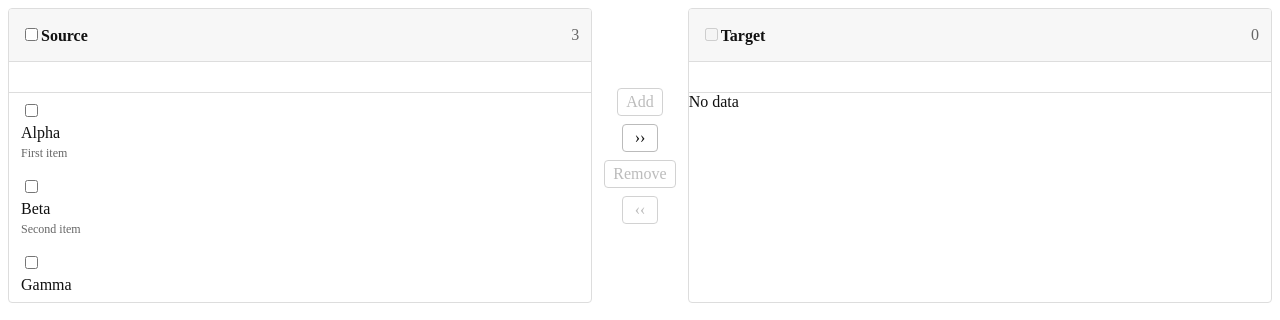
Test: CTransfer › uses custom filterOption and operation labels
expect the button with aria-label "Move selected to target" reads "Add": met, box [617,88,663,116]
expect the button with aria-label "Move selected to source" reads "Remove": met, box [604,160,676,188]
In the search field named "Search source items": point(300, 78) [9,62,591,93], type "g"
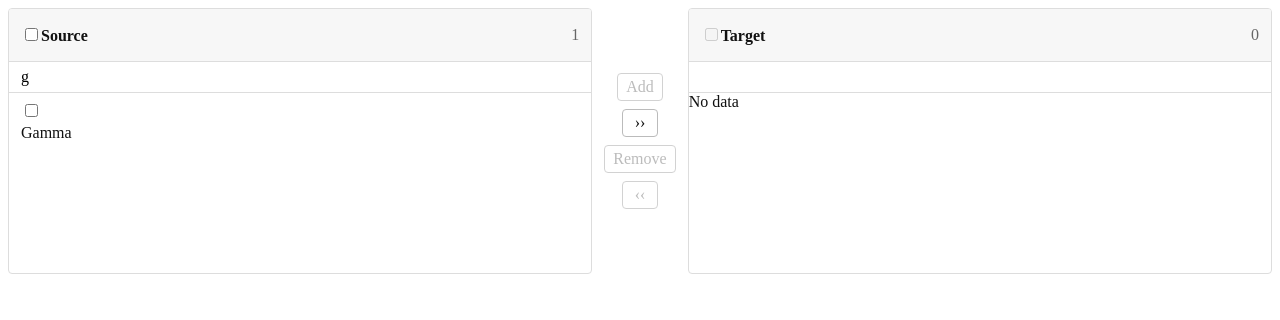
expect the list named "Source" reads "Gamma": met, box [21,124,72,141]
expect the list named "Source" no longer shows "Alpha": met, box [21,104,72,141]
